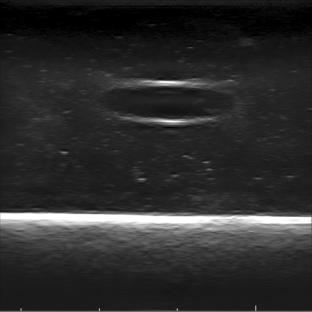vessel: (98, 80, 236, 125)
